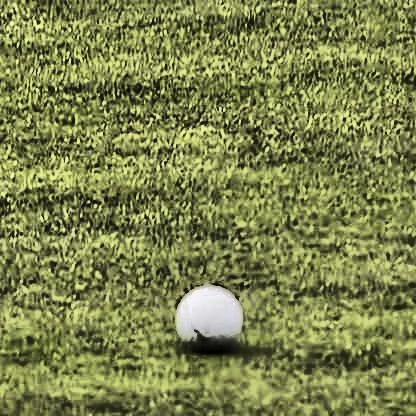golfball: (175, 281, 238, 346)
